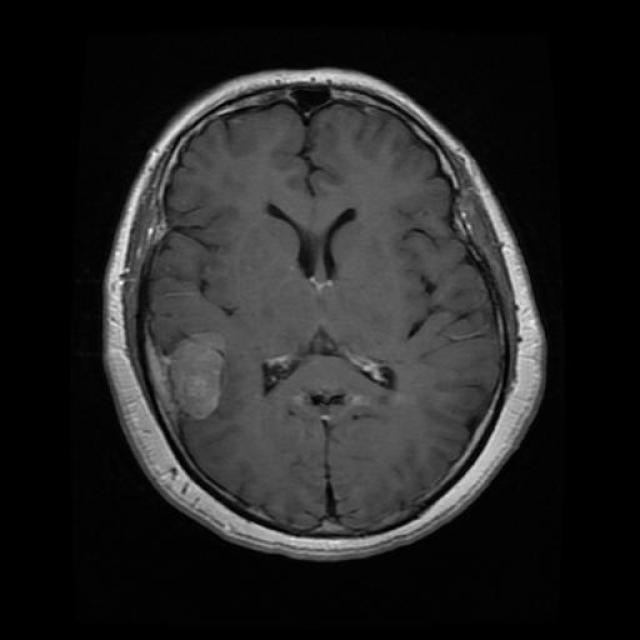Meningioma: (169, 332, 223, 420)
